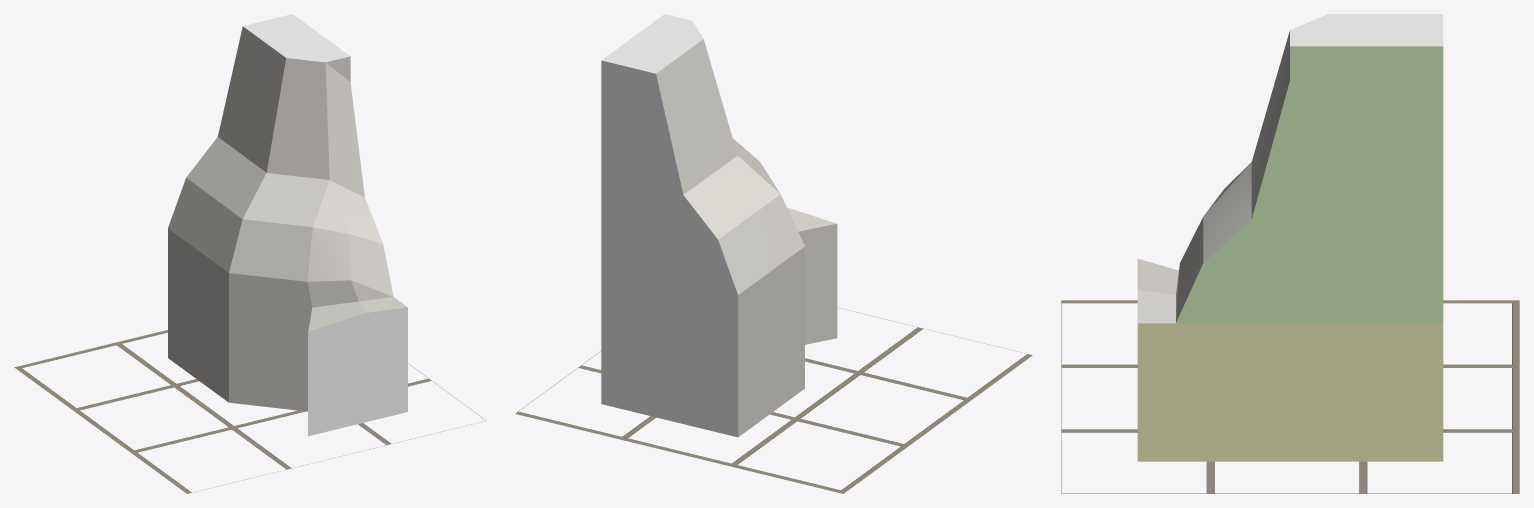
File: Cave_Edge_Straight_Base_2x2.glb
3 views of the same model, side by side, from view 1: azimuth 30°, elevation 25°; view 2: azimuth 150°, elevation 25°; view 3: azimuth 270°, elevation 25° (orthographic). The views are drawn at different scales.
Visible parts, largest first — view 1: Cave_Edge_Straight_Base_2x2, Floor; view 2: Cave_Edge_Straight_Base_2x2, Floor; view 3: Cave_Edge_Straight_Base_2x2, Floor.
Boxes of the visible parts, <box> form: Cave_Edge_Straight_Base_2x2: <box>168,14,407,436</box>; Floor: <box>14,330,486,493</box>; Cave_Edge_Straight_Base_2x2: <box>601,14,837,437</box>; Floor: <box>515,307,1032,493</box>; Cave_Edge_Straight_Base_2x2: <box>1137,14,1443,461</box>; Floor: <box>1061,300,1519,493</box>.
Size of the model in its own units: 300 by 300 by 300.
Materials: 5 (1 with a texture image).
